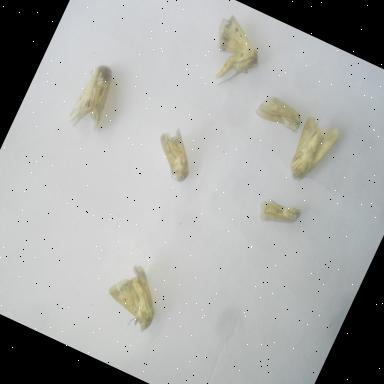abw: (192, 6, 278, 100), (92, 251, 176, 339), (60, 56, 130, 143), (276, 110, 346, 194), (141, 118, 209, 190), (247, 86, 315, 148), (250, 188, 307, 240)
